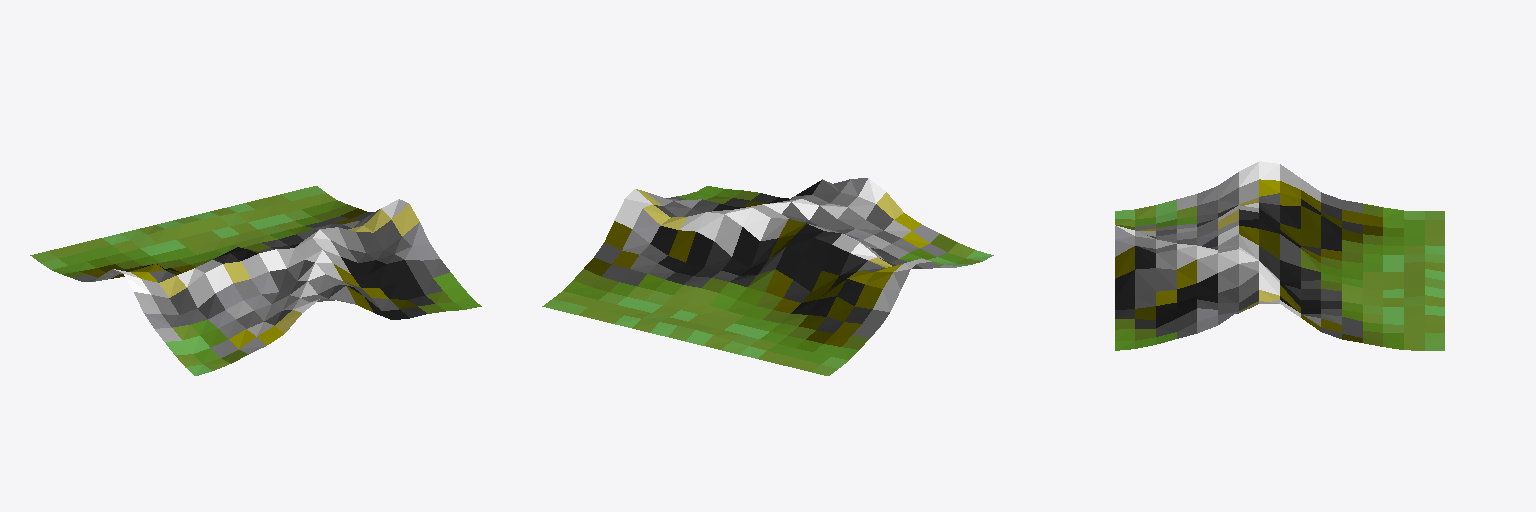
The picture shows the model from 3 angles: view 1: azimuth 30°, elevation 25°; view 2: azimuth 150°, elevation 25°; view 3: azimuth 270°, elevation 25°; orthographic projection.
Parts seen in each view (by area): view 1: mountains14; view 2: mountains14; view 3: mountains14.
Part boxes in pixels (x1,y1,x2,y2): mountains14: (30,186,481,375); mountains14: (542,178,993,375); mountains14: (1115,161,1444,350).
Size of the model in its own units: 1 by 0.1669 by 1.
Materials: 1 (1 with a texture image).